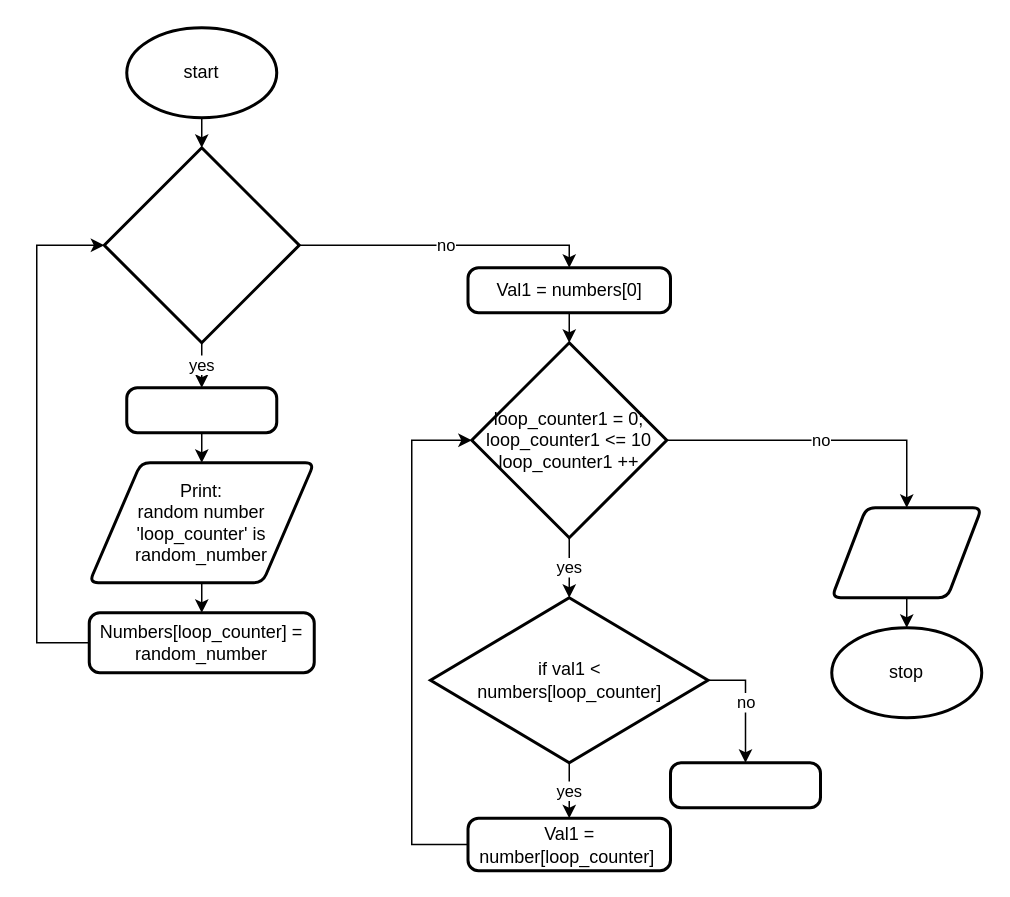
Image size: 1010x897. Some labels were removed from this diagram. Here are the shapes that lost their labels. From the top down, the centre of each, then its label:
(x=201, y=245): loop_counter = 0; loop_counter <= 10 loop_counter ++
(x=201, y=410): Generate random number
(x=906, y=552): Print val1
(x=744, y=784): Break
